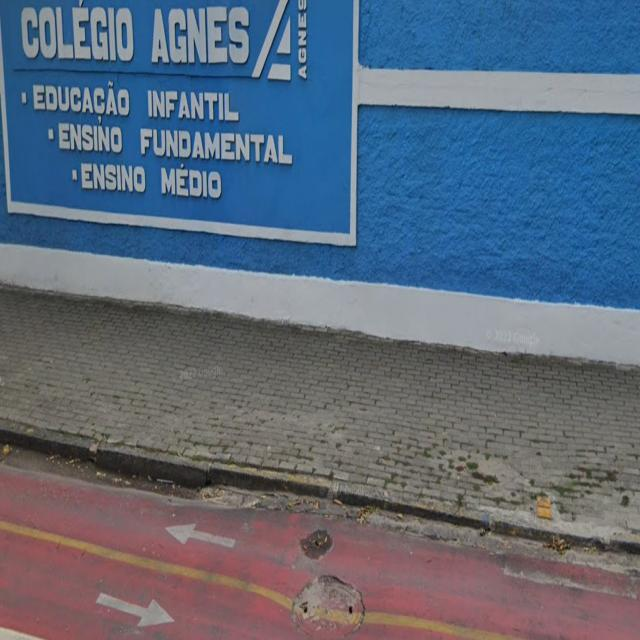Bueiro: (283, 568, 377, 640)
Buraco: (295, 523, 337, 558)
